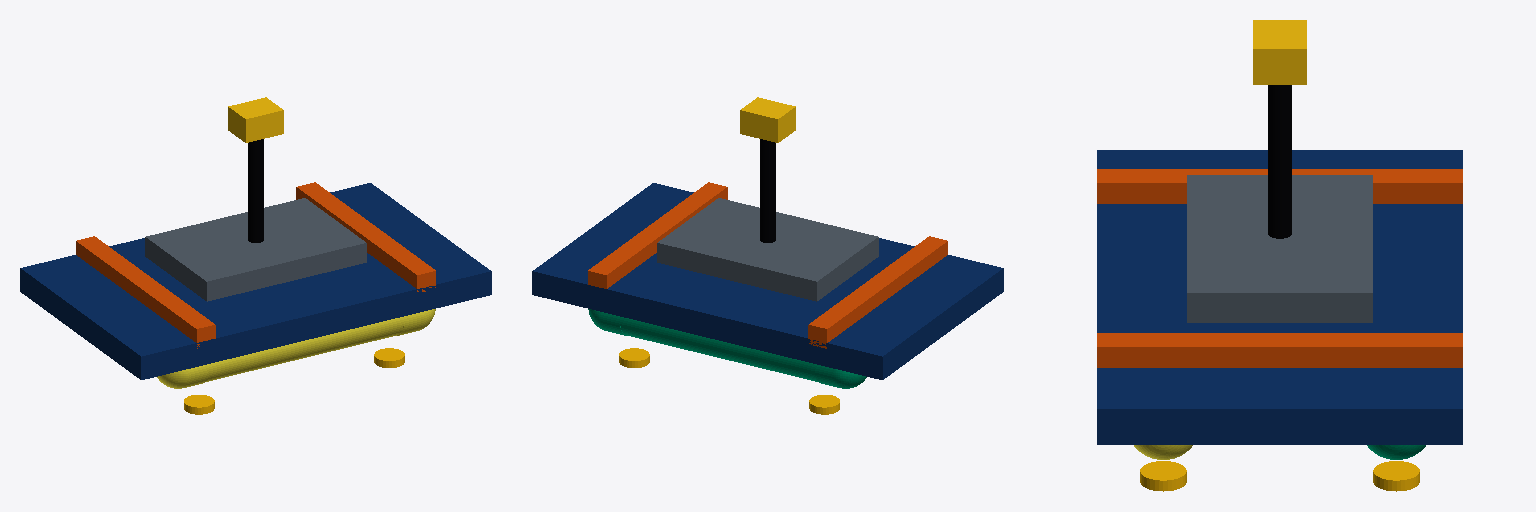
robot.urdf — research_catamaran:
<?xml version="1.0"?>
<robot name="research_catamaran">

  <!--
    Display-ready research baseline for the ASV station-keeping project.

    Coordinate convention:
      +X = forward
      +Y = port / left
      +Z = upward

    The hull spacing, hull collision dimensions, fore/aft thruster spacing and
    mesh scale are retained from the original visible two-hull/four-thruster
    model. The thruster vertical mount is simulation-tuned for a stable surge
    response. The deck, cross beams, payload and sensor mast are simple,
    clearly named primitives so this baseline remains readable and robust in
    Gazebo.

    This is a simulation baseline, not a claim that the added primitives
    reproduce the SolidWorks assembly. Replace those transforms with
    CAD-derived transforms when the native assembly becomes available.
  -->

  <!-- ==================== ROOT AND CENTRAL DECK ==================== -->
  <link name="base_footprint"/>

  <joint name="base_footprint_to_base_link" type="fixed">
    <parent link="base_footprint"/>
    <child link="base_link"/>
    <origin xyz="0 0 0" rpy="0 0 0"/>
  </joint>

  <link name="base_link">
    <inertial>
      <origin xyz="0 0 0.12" rpy="0 0 0"/>
      <mass value="4.0"/>
      <inertia ixx="0.102" ixy="0" ixz="0"
               iyy="0.285" iyz="0" izz="0.387"/>
    </inertial>
    <visual name="deck_visual">
      <origin xyz="0 0 0.12" rpy="0 0 0"/>
      <geometry>
        <box size="0.92 0.55 0.06"/>
      </geometry>
      <material name="deck_blue">
        <color rgba="0.08 0.22 0.42 1.0"/>
      </material>
    </visual>
  </link>

  <!-- ==================== ORIGINAL HULLS ==================== -->
  <link name="port_hull">
    <inertial>
      <origin xyz="0 0 0" rpy="0 0 0"/>
      <mass value="8.751327"/>
      <inertia ixx="0.08" ixy="0" ixz="0"
               iyy="0.30" iyz="0" izz="0.30"/>
    </inertial>
    <visual name="port_hull_visual">
      <origin xyz="-0.971730 0.357754 -1.641617"
              rpy="0 0 -1.57079632679"/>
      <geometry>
        <mesh filename="package://asv_station_keeping/meshes/hull.stl"
              scale="0.001 0.001 0.001"/>
      </geometry>
    </visual>
    <collision name="port_hull_collision">
      <origin xyz="0 0 0" rpy="0 0 0"/>
      <geometry>
        <!-- Simulation buoyancy volume. The visual STL remains unchanged. -->
        <box size="0.80 0.16 0.24"/>
      </geometry>
    </collision>
  </link>

  <link name="starboard_hull">
    <inertial>
      <origin xyz="0 0 0" rpy="0 0 0"/>
      <mass value="8.751327"/>
      <inertia ixx="0.08" ixy="0" ixz="0"
               iyy="0.30" iyz="0" izz="0.30"/>
    </inertial>
    <visual name="starboard_hull_visual">
      <origin xyz="-0.971730 0.357754 -1.641617"
              rpy="0 0 -1.57079632679"/>
      <geometry>
        <mesh filename="package://asv_station_keeping/meshes/hull.stl"
              scale="0.001 0.001 0.001"/>
      </geometry>
    </visual>
    <collision name="starboard_hull_collision">
      <origin xyz="0 0 0" rpy="0 0 0"/>
      <geometry>
        <!-- Simulation buoyancy volume. The visual STL remains unchanged. -->
        <box size="0.80 0.16 0.24"/>
      </geometry>
    </collision>
  </link>

  <joint name="base_to_port_hull" type="fixed">
    <parent link="base_link"/>
    <child link="port_hull"/>
    <origin xyz="0 0.175 0.055" rpy="0 0 0"/>
  </joint>

  <joint name="base_to_starboard_hull" type="fixed">
    <parent link="base_link"/>
    <child link="starboard_hull"/>
    <origin xyz="0 -0.175 0.055" rpy="0 0 0"/>
  </joint>

  <!-- Hidden simulation ballast lowers the centre of mass so the simplified
       two-box buoyancy model has a stable roll/pitch response. It is a
       simulation parameter, not a SolidWorks component. -->
  <link name="simulation_ballast">
    <inertial>
      <origin xyz="0 0 0" rpy="0 0 0"/>
      <mass value="12.0"/>
      <inertia ixx="0.40" ixy="0" ixz="0"
               iyy="0.40" iyz="0" izz="0.40"/>
    </inertial>
  </link>

  <joint name="base_to_simulation_ballast" type="fixed">
    <parent link="base_link"/>
    <child link="simulation_ballast"/>
    <origin xyz="0 0 -0.20" rpy="0 0 0"/>
  </joint>

  <!-- ==================== STRUCTURAL CROSS BEAMS ==================== -->
  <link name="front_crossbeam">
    <inertial>
      <origin xyz="0 0 0" rpy="0 0 0"/>
      <mass value="0.35"/>
      <inertia ixx="0.00890" ixy="0" ixz="0"
               iyy="0.00015" iyz="0" izz="0.00890"/>
    </inertial>
    <visual>
      <geometry><box size="0.05 0.55 0.05"/></geometry>
      <material name="beam_orange">
        <color rgba="0.85 0.35 0.06 1.0"/>
      </material>
    </visual>
  </link>

  <link name="rear_crossbeam">
    <inertial>
      <origin xyz="0 0 0" rpy="0 0 0"/>
      <mass value="0.35"/>
      <inertia ixx="0.00890" ixy="0" ixz="0"
               iyy="0.00015" iyz="0" izz="0.00890"/>
    </inertial>
    <visual>
      <geometry><box size="0.05 0.55 0.05"/></geometry>
      <material name="beam_orange">
        <color rgba="0.85 0.35 0.06 1.0"/>
      </material>
    </visual>
  </link>

  <joint name="base_to_front_crossbeam" type="fixed">
    <parent link="base_link"/>
    <child link="front_crossbeam"/>
    <origin xyz="0.29 0 0.16" rpy="0 0 0"/>
  </joint>

  <joint name="base_to_rear_crossbeam" type="fixed">
    <parent link="base_link"/>
    <child link="rear_crossbeam"/>
    <origin xyz="-0.29 0 0.16" rpy="0 0 0"/>
  </joint>

  <!-- ==================== PAYLOAD AND SENSOR ARCHITECTURE ==================== -->
  <link name="payload_platform">
    <inertial>
      <origin xyz="0 0 0" rpy="0 0 0"/>
      <mass value="1.0"/>
      <inertia ixx="0.0067" ixy="0" ixz="0"
               iyy="0.0149" iyz="0" izz="0.0212"/>
    </inertial>
    <visual>
      <geometry><box size="0.42 0.28 0.05"/></geometry>
      <material name="payload_gray">
        <color rgba="0.35 0.39 0.43 1.0"/>
      </material>
    </visual>
  </link>

  <joint name="base_to_payload_platform" type="fixed">
    <parent link="base_link"/>
    <child link="payload_platform"/>
    <origin xyz="0 0 0.20" rpy="0 0 0"/>
  </joint>

  <link name="sensor_mast">
    <inertial>
      <origin xyz="0 0 0.14" rpy="0 0 0"/>
      <mass value="0.20"/>
      <inertia ixx="0.0012" ixy="0" ixz="0"
               iyy="0.0012" iyz="0" izz="0.00003"/>
    </inertial>
    <visual>
      <origin xyz="0 0 0.14" rpy="0 0 0"/>
      <geometry><cylinder radius="0.018" length="0.28"/></geometry>
      <material name="mast_black">
        <color rgba="0.04 0.04 0.05 1.0"/>
      </material>
    </visual>
  </link>

  <joint name="platform_to_sensor_mast" type="fixed">
    <parent link="payload_platform"/>
    <child link="sensor_mast"/>
    <origin xyz="0 0 0.025" rpy="0 0 0"/>
  </joint>

  <link name="sensor_head">
    <inertial>
      <origin xyz="0 0 0" rpy="0 0 0"/>
      <mass value="0.15"/>
      <inertia ixx="0.0003" ixy="0" ixz="0"
               iyy="0.0003" iyz="0" izz="0.0003"/>
    </inertial>
    <visual>
      <geometry><box size="0.10 0.08 0.06"/></geometry>
      <material name="sensor_yellow">
        <color rgba="0.95 0.75 0.08 1.0"/>
      </material>
    </visual>
  </link>

  <joint name="mast_to_sensor_head" type="fixed">
    <parent link="sensor_mast"/>
    <child link="sensor_head"/>
    <origin xyz="0 0 0.30" rpy="0 0 0"/>
  </joint>

  <!-- ==================== FOUR THRUSTER HOUSINGS ==================== -->
  <!-- These reuse the original T200 visual mesh. The simulation mount height
       puts the thrust line close to the buoyancy/centre-of-mass envelope so
       surge commands do not inject a large pitch moment. This is a
       simulation-stability parameter, not a CAD placement claim. -->
  <link name="port_front_thruster">
    <inertial>
      <origin xyz="0 0 0" rpy="0 0 0"/>
      <mass value="1.532471"/>
      <inertia ixx="0.002" ixy="0" ixz="0"
               iyy="0.002" iyz="0" izz="0.002"/>
    </inertial>
    <visual>
      <geometry>
        <mesh filename="package://asv_station_keeping/meshes/thruster.stl"
              scale="0.001 0.001 0.001"/>
      </geometry>
    </visual>
  </link>

  <link name="starboard_front_thruster">
    <inertial>
      <origin xyz="0 0 0" rpy="0 0 0"/>
      <mass value="1.532471"/>
      <inertia ixx="0.002" ixy="0" ixz="0"
               iyy="0.002" iyz="0" izz="0.002"/>
    </inertial>
    <visual>
      <geometry>
        <mesh filename="package://asv_station_keeping/meshes/thruster.stl"
              scale="0.001 0.001 0.001"/>
      </geometry>
    </visual>
  </link>

  <link name="port_rear_thruster">
    <inertial>
      <origin xyz="0 0 0" rpy="0 0 0"/>
      <mass value="1.532471"/>
      <inertia ixx="0.002" ixy="0" ixz="0"
               iyy="0.002" iyz="0" izz="0.002"/>
    </inertial>
    <visual>
      <geometry>
        <mesh filename="package://asv_station_keeping/meshes/thruster.stl"
              scale="0.001 0.001 0.001"/>
      </geometry>
    </visual>
  </link>

  <link name="starboard_rear_thruster">
    <inertial>
      <origin xyz="0 0 0" rpy="0 0 0"/>
      <mass value="1.532471"/>
      <inertia ixx="0.002" ixy="0" ixz="0"
               iyy="0.002" iyz="0" izz="0.002"/>
    </inertial>
    <visual>
      <geometry>
        <mesh filename="package://asv_station_keeping/meshes/thruster.stl"
              scale="0.001 0.001 0.001"/>
      </geometry>
    </visual>
  </link>

  <joint name="port_hull_to_port_front_thruster" type="fixed">
    <parent link="port_hull"/>
    <child link="port_front_thruster"/>
    <origin xyz="0.25 0 -0.05"
            rpy="0 1.57079632679 0.785398163397"/>
  </joint>

  <joint name="starboard_hull_to_starboard_front_thruster" type="fixed">
    <parent link="starboard_hull"/>
    <child link="starboard_front_thruster"/>
    <origin xyz="0.25 0 -0.05"
            rpy="0 1.57079632679 -0.785398163397"/>
  </joint>

  <joint name="port_hull_to_port_rear_thruster" type="fixed">
    <parent link="port_hull"/>
    <child link="port_rear_thruster"/>
    <origin xyz="-0.25 0 -0.05"
            rpy="0 1.57079632679 2.356194490192"/>
  </joint>

  <joint name="starboard_hull_to_starboard_rear_thruster" type="fixed">
    <parent link="starboard_hull"/>
    <child link="starboard_rear_thruster"/>
    <origin xyz="-0.25 0 -0.05"
            rpy="0 1.57079632679 -2.356194490192"/>
  </joint>

  <!-- ==================== PROPULSER ROTATION INTERFACES ==================== -->
  <!-- The propeller disks are simple visual placeholders. The existing STL
       remains the primary thruster visual; these links make the four intended
       shaft axes explicit for later controllers. -->
  <link name="port_front_propeller">
    <inertial>
      <origin xyz="0 0 0" rpy="0 0 0"/>
      <mass value="0.04"/>
      <inertia ixx="0.00001" ixy="0" ixz="0"
               iyy="0.00001" iyz="0" izz="0.00001"/>
    </inertial>
    <visual>
      <origin xyz="0 0 0" rpy="0 1.57079632679 0"/>
      <geometry><cylinder radius="0.035" length="0.018"/></geometry>
      <material name="propeller_yellow">
        <color rgba="0.95 0.72 0.05 1.0"/>
      </material>
    </visual>
  </link>

  <link name="starboard_front_propeller">
    <inertial>
      <origin xyz="0 0 0" rpy="0 0 0"/>
      <mass value="0.04"/>
      <inertia ixx="0.00001" ixy="0" ixz="0"
               iyy="0.00001" iyz="0" izz="0.00001"/>
    </inertial>
    <visual>
      <origin xyz="0 0 0" rpy="0 1.57079632679 0"/>
      <geometry><cylinder radius="0.035" length="0.018"/></geometry>
      <material name="propeller_yellow">
        <color rgba="0.95 0.72 0.05 1.0"/>
      </material>
    </visual>
  </link>

  <link name="port_rear_propeller">
    <inertial>
      <origin xyz="0 0 0" rpy="0 0 0"/>
      <mass value="0.04"/>
      <inertia ixx="0.00001" ixy="0" ixz="0"
               iyy="0.00001" iyz="0" izz="0.00001"/>
    </inertial>
    <visual>
      <origin xyz="0 0 0" rpy="0 1.57079632679 0"/>
      <geometry><cylinder radius="0.035" length="0.018"/></geometry>
      <material name="propeller_yellow">
        <color rgba="0.95 0.72 0.05 1.0"/>
      </material>
    </visual>
  </link>

  <link name="starboard_rear_propeller">
    <inertial>
      <origin xyz="0 0 0" rpy="0 0 0"/>
      <mass value="0.04"/>
      <inertia ixx="0.00001" ixy="0" ixz="0"
               iyy="0.00001" iyz="0" izz="0.00001"/>
    </inertial>
    <visual>
      <origin xyz="0 0 0" rpy="0 1.57079632679 0"/>
      <geometry><cylinder radius="0.035" length="0.018"/></geometry>
      <material name="propeller_yellow">
        <color rgba="0.95 0.72 0.05 1.0"/>
      </material>
    </visual>
  </link>

  <joint name="port_front_propeller_joint" type="continuous">
    <parent link="port_front_thruster"/>
    <child link="port_front_propeller"/>
    <origin xyz="0.065 0 0" rpy="0 0 0"/>
    <axis xyz="0 0 1"/>
    <limit effort="50" velocity="100"/>
    <dynamics damping="0.01" friction="0.001"/>
  </joint>

  <joint name="starboard_front_propeller_joint" type="continuous">
    <parent link="starboard_front_thruster"/>
    <child link="starboard_front_propeller"/>
    <origin xyz="0.065 0 0" rpy="0 0 0"/>
    <axis xyz="0 0 1"/>
    <limit effort="50" velocity="100"/>
    <dynamics damping="0.01" friction="0.001"/>
  </joint>

  <joint name="port_rear_propeller_joint" type="continuous">
    <parent link="port_rear_thruster"/>
    <child link="port_rear_propeller"/>
    <origin xyz="0.065 0 0" rpy="0 0 0"/>
    <axis xyz="0 0 1"/>
    <limit effort="50" velocity="100"/>
    <dynamics damping="0.01" friction="0.001"/>
  </joint>

  <joint name="starboard_rear_propeller_joint" type="continuous">
    <parent link="starboard_rear_thruster"/>
    <child link="starboard_rear_propeller"/>
    <origin xyz="0.065 0 0" rpy="0 0 0"/>
    <axis xyz="0 0 1"/>
    <limit effort="50" velocity="100"/>
    <dynamics damping="0.01" friction="0.001"/>
  </joint>

  <!-- ==================== GAZEBO FORTRESS INTERFACES ==================== -->
  <!-- The coefficient and conservative +/-6 command cap are software-test
       values, not measured T200 data. The cap keeps the baseline maneuver
       tests slow until the vehicle attitude response is validated. -->
  <gazebo>
    <self_collide>false</self_collide>

    <plugin filename="ignition-gazebo-joint-state-publisher-system"
            name="ignition::gazebo::systems::JointStatePublisher">
      <topic>/research_catamaran/joint_states</topic>
    </plugin>

    <plugin filename="ignition-gazebo-odometry-publisher-system"
            name="ignition::gazebo::systems::OdometryPublisher">
      <dimensions>3</dimensions>
    </plugin>

    <!-- Simulation-only damping keeps the surface vehicle near a planar
         operating regime while retaining free XY/yaw motion for algorithms.
         Gazebo lumps fixed-joint links, so the merged root link base_footprint is the damping target; the name base_link no longer exists after SDF conversion. It was
         the inertia-free TF root required by KDL. -->
    <plugin filename="ignition-gazebo-hydrodynamics-system"
            name="ignition::gazebo::systems::Hydrodynamics">
      <link_name>base_footprint</link_name>
      <default_current>0 0 0</default_current>
      <!-- Added mass (water carried with the hull) and Coriolis coupling,
           roughly 15-25 % of the vehicle mass/inertia for a slender twin
           hull.  Estimates: replace after system identification. -->
      <disable_coriolis>true</disable_coriolis>
      <disable_added_mass>true</disable_added_mass>
      <xDotU>-6.0</xDotU>
      <yDotV>-12.0</yDotV>
      <zDotW>-25.0</zDotW>
      <kDotP>-0.2</kDotP>
      <mDotQ>-0.6</mDotQ>
      <nDotR>-0.8</nDotR>
      <!-- Explicit linear damping terms avoid the Fortress hydrodynamics
           missing-linear-velocity diagnostic and make the model's damping
           configuration visible to the experiment record. -->
      <xU>-0.60</xU>
      <yV>-0.80</yV>
      <zW>-1.50</zW>
      <kP>-0.50</kP>
      <mQ>-1.00</mQ>
      <nR>-0.50</nR>
      <xUabsU>-2.0</xUabsU>
      <yVabsV>-3.0</yVabsV>
      <zWabsW>-6.0</zWabsW>
      <kPabsP>-12.0</kPabsP>
      <mQabsQ>-18.0</mQabsQ>
      <nRabsR>-5.0</nRabsR>
    </plugin>

    <plugin filename="ignition-gazebo-thruster-system"
            name="ignition::gazebo::systems::Thruster">
      <joint_name>port_front_propeller_joint</joint_name>
      <propeller_diameter>0.0762</propeller_diameter>
      <fluid_density>1000</fluid_density>
      <thrust_coefficient>1.0</thrust_coefficient>
      <velocity_control>true</velocity_control>
      <max_thrust_cmd>6</max_thrust_cmd>
      <min_thrust_cmd>-6</min_thrust_cmd>
    </plugin>
    <plugin filename="ignition-gazebo-thruster-system"
            name="ignition::gazebo::systems::Thruster">
      <joint_name>starboard_front_propeller_joint</joint_name>
      <propeller_diameter>0.0762</propeller_diameter>
      <fluid_density>1000</fluid_density>
      <thrust_coefficient>1.0</thrust_coefficient>
      <velocity_control>true</velocity_control>
      <max_thrust_cmd>6</max_thrust_cmd>
      <min_thrust_cmd>-6</min_thrust_cmd>
    </plugin>
    <plugin filename="ignition-gazebo-thruster-system"
            name="ignition::gazebo::systems::Thruster">
      <joint_name>port_rear_propeller_joint</joint_name>
      <propeller_diameter>0.0762</propeller_diameter>
      <fluid_density>1000</fluid_density>
      <thrust_coefficient>1.0</thrust_coefficient>
      <velocity_control>true</velocity_control>
      <max_thrust_cmd>6</max_thrust_cmd>
      <min_thrust_cmd>-6</min_thrust_cmd>
    </plugin>
    <plugin filename="ignition-gazebo-thruster-system"
            name="ignition::gazebo::systems::Thruster">
      <joint_name>starboard_rear_propeller_joint</joint_name>
      <propeller_diameter>0.0762</propeller_diameter>
      <fluid_density>1000</fluid_density>
      <thrust_coefficient>1.0</thrust_coefficient>
      <velocity_control>true</velocity_control>
      <max_thrust_cmd>6</max_thrust_cmd>
      <min_thrust_cmd>-6</min_thrust_cmd>
    </plugin>
  </gazebo>

  <gazebo reference="sensor_head">
    <!-- Noise values are representative of a BNO085-class IMU and an
         RTK-grade GNSS receiver.  Edit them to match your hardware; set them
         to zero to recover ideal sensors. -->
    <sensor name="research_imu" type="imu">
      <always_on>true</always_on>
      <update_rate>100</update_rate>
      <visualize>false</visualize>
      <topic>/research_catamaran/imu</topic>
      <imu>
        <angular_velocity>
          <x><noise type="gaussian"><mean>0</mean><stddev>0.004</stddev></noise></x>
          <y><noise type="gaussian"><mean>0</mean><stddev>0.004</stddev></noise></y>
          <z><noise type="gaussian"><mean>0</mean><stddev>0.004</stddev></noise></z>
        </angular_velocity>
        <linear_acceleration>
          <x><noise type="gaussian"><mean>0</mean><stddev>0.04</stddev></noise></x>
          <y><noise type="gaussian"><mean>0</mean><stddev>0.04</stddev></noise></y>
          <z><noise type="gaussian"><mean>0</mean><stddev>0.04</stddev></noise></z>
        </linear_acceleration>
      </imu>
    </sensor>
    <sensor name="research_lidar" type="gpu_lidar">
      <always_on>true</always_on>
      <update_rate>10</update_rate>
      <visualize>false</visualize>
      <topic>/research_catamaran/scan</topic>
      <pose>0 0 0.06 0 0 0</pose>
      <lidar>
        <scan>
          <horizontal>
            <samples>360</samples>
            <resolution>1</resolution>
            <min_angle>-3.14159</min_angle>
            <max_angle>3.14159</max_angle>
          </horizontal>
          <vertical>
            <samples>1</samples>
            <resolution>1</resolution>
            <min_angle>0</min_angle>
            <max_angle>0</max_angle>
          </vertical>
        </scan>
        <range>
          <min>0.15</min>
          <max>12.0</max>
          <resolution>0.01</resolution>
        </range>
        <noise>
          <type>gaussian</type>
          <mean>0.0</mean>
          <stddev>0.01</stddev>
        </noise>
      </lidar>
    </sensor>
    <sensor name="research_gps" type="navsat">
      <always_on>true</always_on>
      <update_rate>10</update_rate>
      <topic>/research_catamaran/gps</topic>
      <navsat>
        <position_sensing>
          <horizontal>
            <!-- Fortress applies horizontal navsat noise in DEGREES of
                 latitude/longitude, not metres: 4.5e-7 deg ~= 0.05 m. -->
            <noise type="gaussian"><mean>0</mean><stddev>4.5e-7</stddev></noise>
          </horizontal>
          <vertical>
            <noise type="gaussian"><mean>0</mean><stddev>0.10</stddev></noise>
          </vertical>
        </position_sensing>
      </navsat>
    </sensor>
  </gazebo>

</robot>

--- What the picture shows (computed from the rendered views, not written in the file) ---
The picture shows the robot from 3 angles, left to right: view 1: azimuth 30°, elevation 25°; view 2: azimuth 150°, elevation 25°; view 3: azimuth 270°, elevation 25°; orthographic projection.
Model research_catamaran with 18 links and 17 joints (4 continuous, 13 fixed), rooted at base_footprint, posed every joint at zero.
Links seen in each view (by area): view 1: base_link, payload_platform, starboard_hull, rear_crossbeam, front_crossbeam, sensor_head, sensor_mast, starboard_rear_propeller, starboard_front_propeller; view 2: base_link, payload_platform, port_hull, rear_crossbeam, front_crossbeam, sensor_head, sensor_mast, port_rear_propeller, port_front_propeller; view 3: base_link, payload_platform, front_crossbeam, rear_crossbeam, sensor_mast, sensor_head, port_front_propeller, starboard_front_propeller, starboard_hull, port_hull.
Link boxes in pixels (box(x1,y1,x2,y2)): base_link: box(20, 183, 491, 379); payload_platform: box(145, 198, 366, 301); starboard_hull: box(157, 309, 435, 388); rear_crossbeam: box(76, 236, 215, 348); front_crossbeam: box(296, 182, 435, 291); sensor_head: box(228, 97, 283, 142); sensor_mast: box(248, 139, 263, 242); starboard_rear_propeller: box(184, 395, 214, 414); starboard_front_propeller: box(374, 348, 404, 367); base_link: box(532, 183, 1003, 379); payload_platform: box(657, 198, 878, 301); port_hull: box(588, 309, 866, 388); rear_crossbeam: box(808, 236, 947, 348); front_crossbeam: box(588, 182, 727, 288); sensor_head: box(740, 97, 795, 142); sensor_mast: box(760, 139, 775, 242); port_rear_propeller: box(809, 395, 839, 414); port_front_propeller: box(619, 348, 649, 367); base_link: box(1097, 150, 1462, 444); payload_platform: box(1187, 175, 1372, 322); front_crossbeam: box(1097, 333, 1462, 367); rear_crossbeam: box(1097, 169, 1462, 203); sensor_mast: box(1268, 85, 1291, 238); sensor_head: box(1253, 20, 1306, 84); port_front_propeller: box(1373, 461, 1419, 491); starboard_front_propeller: box(1140, 461, 1186, 491); starboard_hull: box(1134, 445, 1192, 459); port_hull: box(1367, 445, 1425, 459).
Size in the robot's own frame: 0.92 by 0.55 by 0.624 metres.
Meshes: 2 distinct files referenced, 2 mesh visuals loaded (1 binary STL); not drawn: 4 (reference not matched to a file when rendering).
